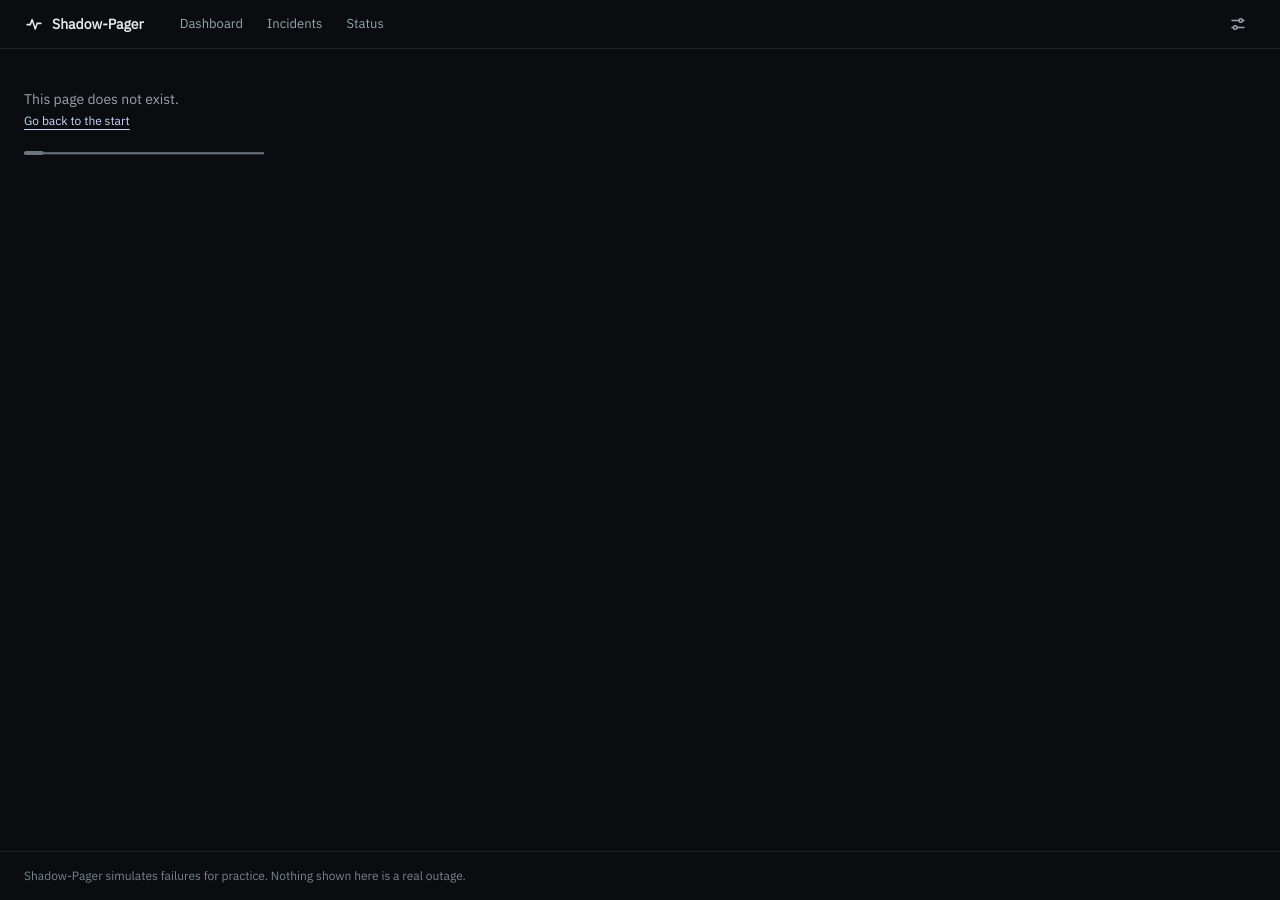
Test: settings in the header › closes when something outside of it is pressed, and stays open for presses inside
The image size is (1280, 900).
Click the button named "Settings".
click(1238, 24)  # box [1220,6,1256,42]
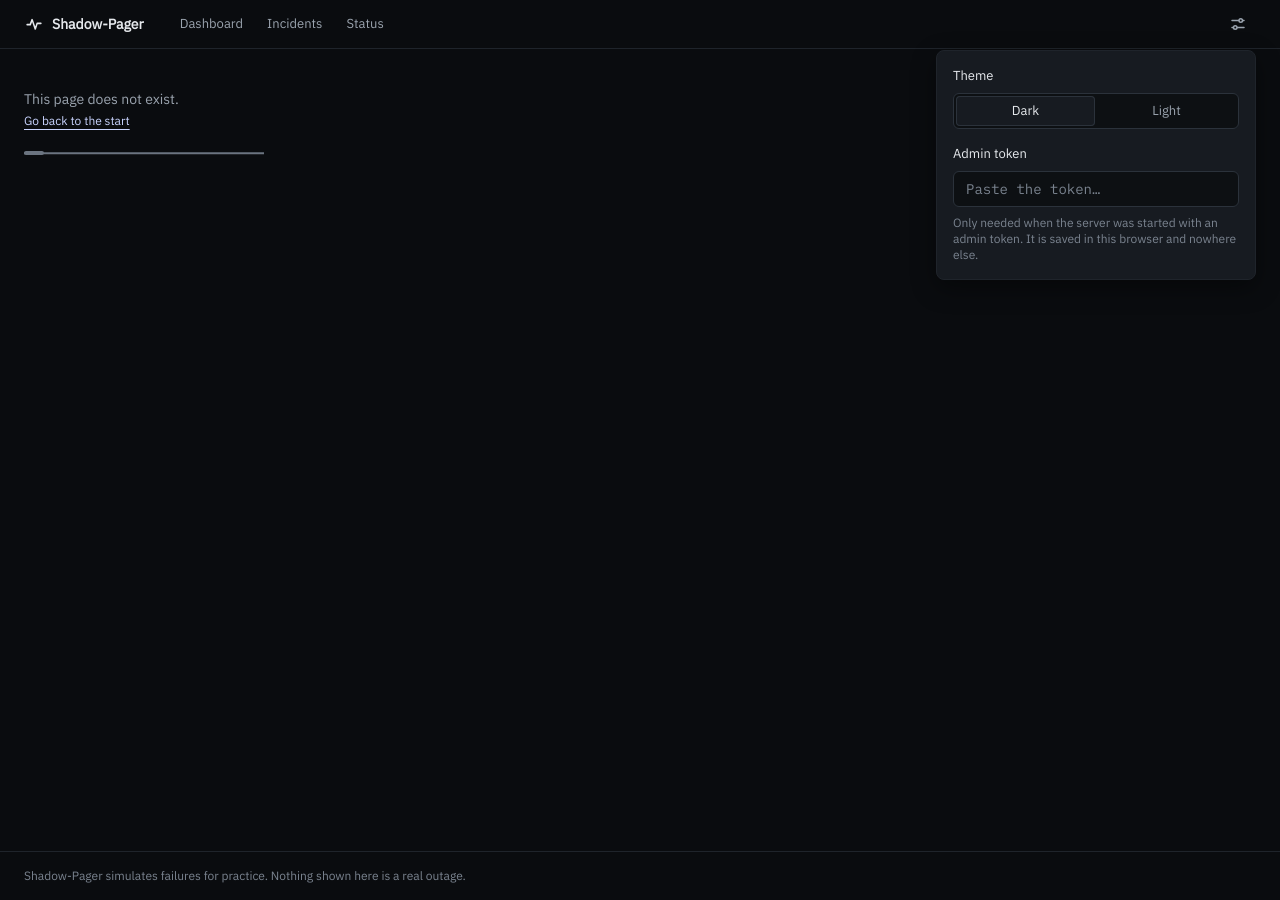
Press the mouse on the password field labelled "Admin token" at x=1096, y=189, box [953,171,1239,207]
Expected: the dialog is shown, [936,50,1256,280]
Press the mouse on the text "This page does not exist." at x=101, y=99, box [24,90,179,108]
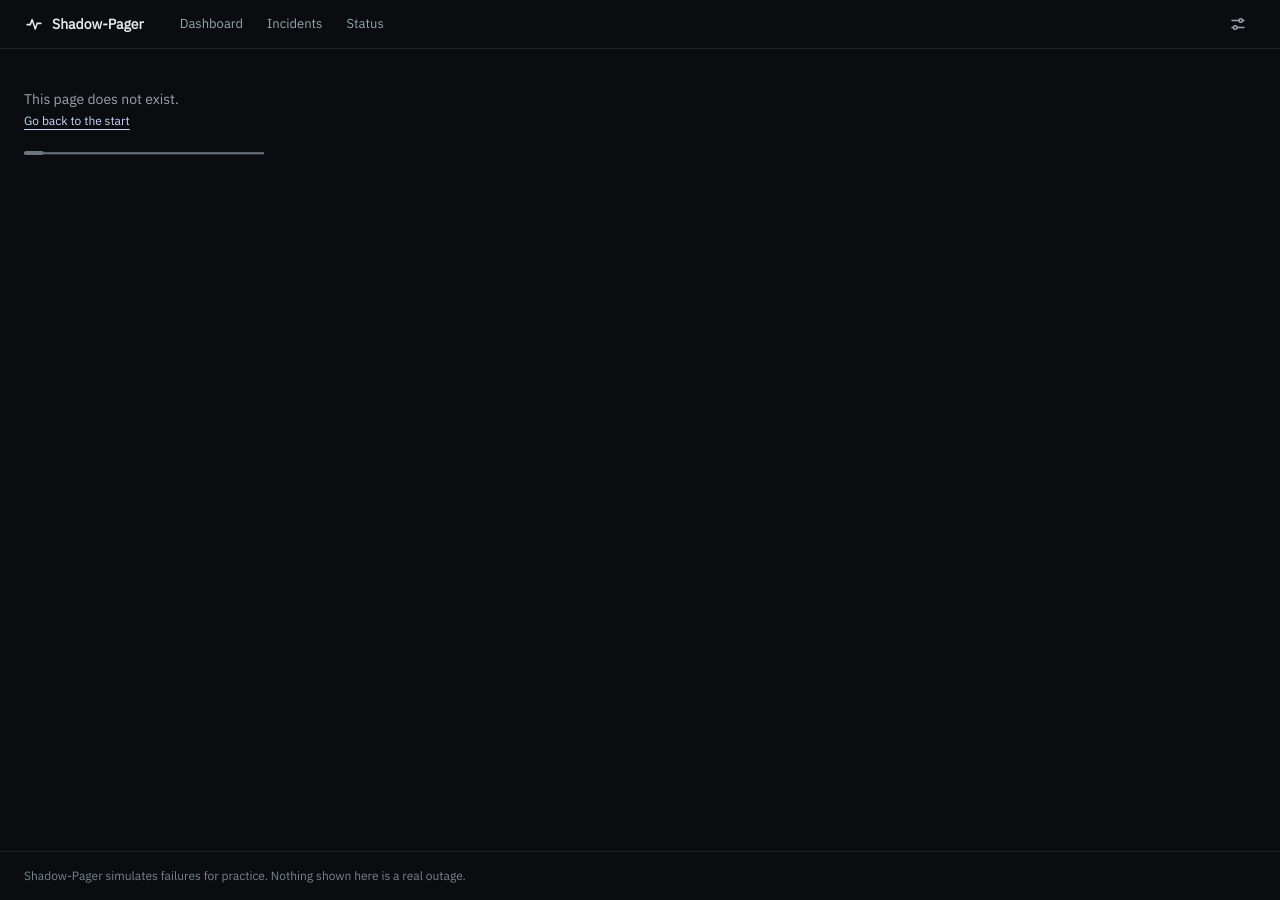
Expected: the dialog is gone
